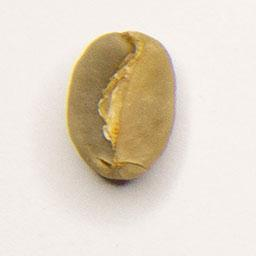premium: (61, 24, 182, 186)
